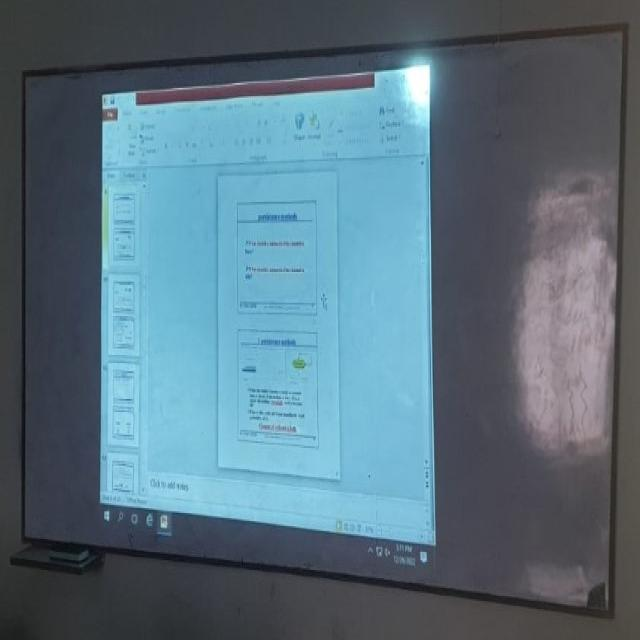Slide: (98, 61, 436, 574)
White-board: (24, 29, 625, 620)
